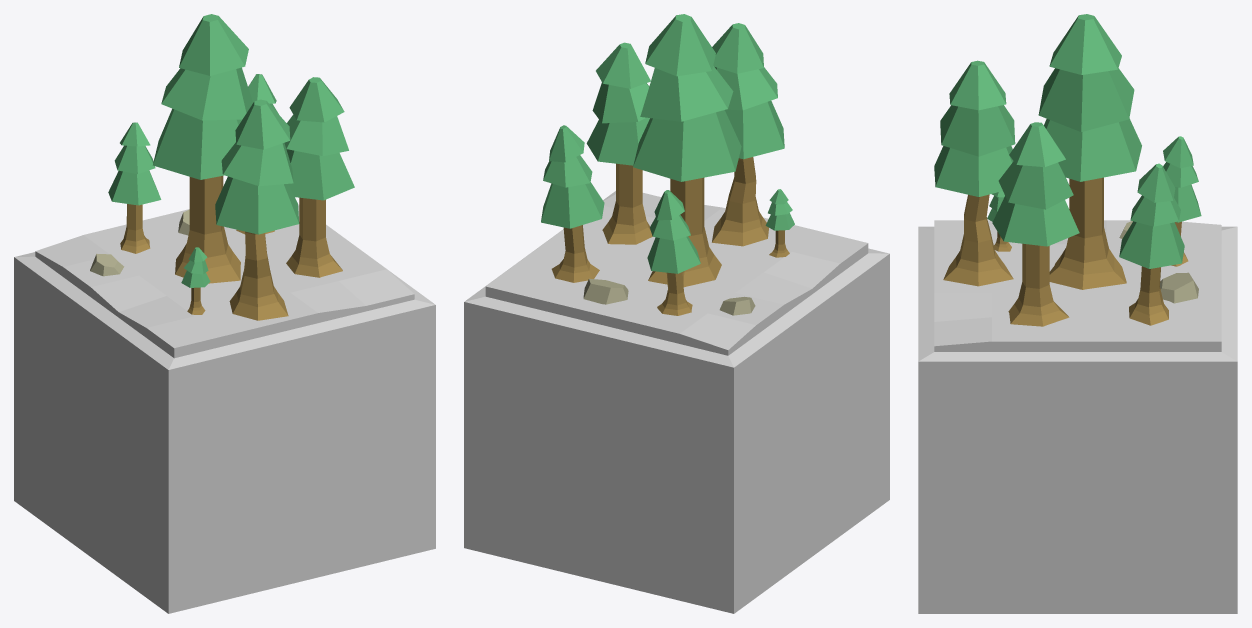
Rendered from tile_wood_3.fbx.
3 views of the same model, side by side, from view 1: azimuth 30°, elevation 25°; view 2: azimuth 150°, elevation 25°; view 3: azimuth 270°, elevation 25° (orthographic). The views are drawn at different scales.
Visible parts, largest first — view 1: Tile, Tree_5_Top.001, Ground; view 2: Tile, Tree_5_Top.001, Ground; view 3: Tile, Tree_5_Top.001, Ground.
Part boxes in pixels (x1,y1,x2,y2): Tile: (14, 204, 435, 613); Tree_5_Top.001: (90, 14, 354, 320); Ground: (35, 204, 414, 358); Tile: (464, 191, 889, 613); Tree_5_Top.001: (541, 14, 794, 315); Ground: (485, 193, 868, 355); Tile: (918, 226, 1237, 613); Tree_5_Top.001: (934, 14, 1201, 326); Ground: (934, 220, 1221, 351).
Size of the model in its own units: 0.04 by 0.0725 by 0.04.
